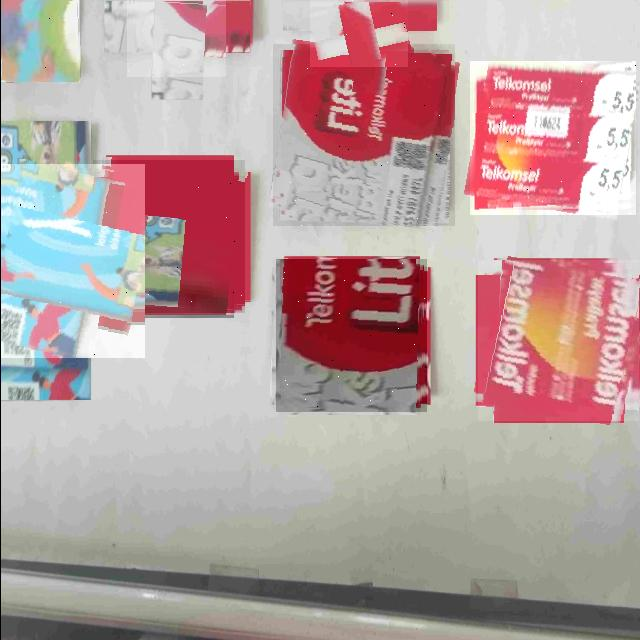Indosat: (0, 0, 79, 82)
Telkomsel: (272, 44, 454, 226), (477, 260, 638, 421), (469, 61, 635, 215), (93, 160, 245, 313), (275, 259, 426, 412), (126, 0, 225, 77), (309, 0, 407, 67)
byu: (0, 164, 144, 358)
